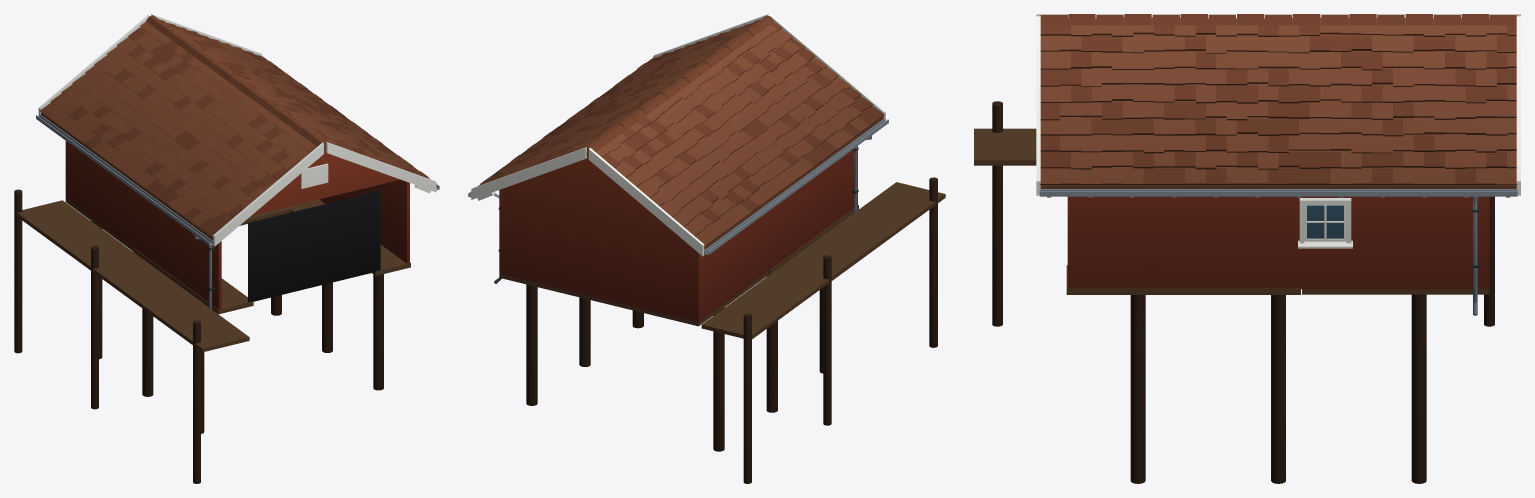
File: Boathouse.fbx
3 views of the same model, side by side, from view 1: azimuth 30°, elevation 25°; view 2: azimuth 150°, elevation 25°; view 3: azimuth 270°, elevation 25° (orthographic). The views are drawn at different scales.
Parts seen in each view (by area): view 1: Boathouse_LOD0; view 2: Boathouse_LOD0; view 3: Boathouse_LOD0.
Boxes of the visible parts, <box> form: Boathouse_LOD0: <box>14,14,439,483</box>; Boathouse_LOD0: <box>468,14,945,483</box>; Boathouse_LOD0: <box>974,14,1520,483</box>.
Size of what is drawn, in the model's own units: 8.88 by 9.54 by 11.67.
1 material, 1 textured.
